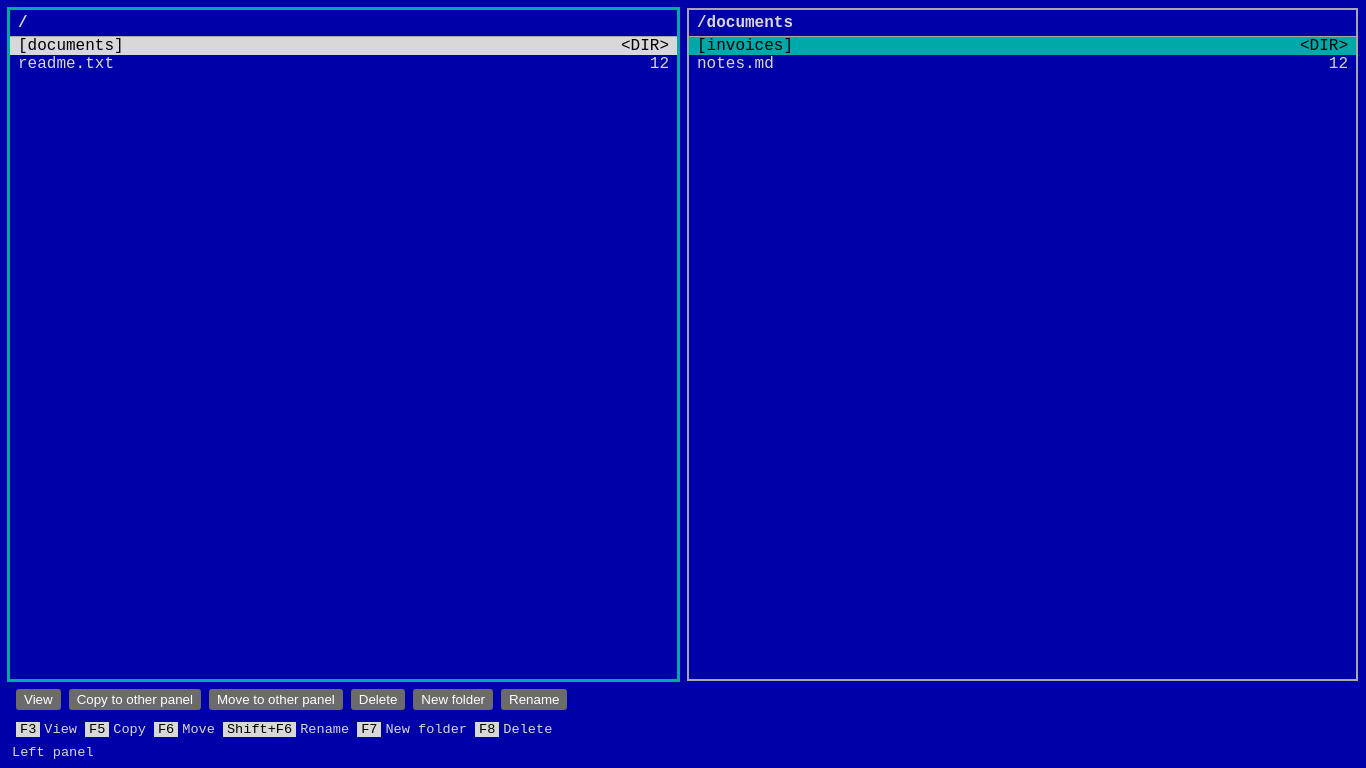
it: §REQ:TWO-PNL-NVGT-OOX-020 active panel selection › §REQ:TWO-PNL-NVGT-OOX-020 the active panel is announced as the target of subsequent commands
This screenshot has width=1366, height=768.
Check: the message named "active panel" shows "Left", box [12, 745, 94, 760]
Click the element named "right panel".
click(1022, 344)  # box [687, 8, 1358, 681]
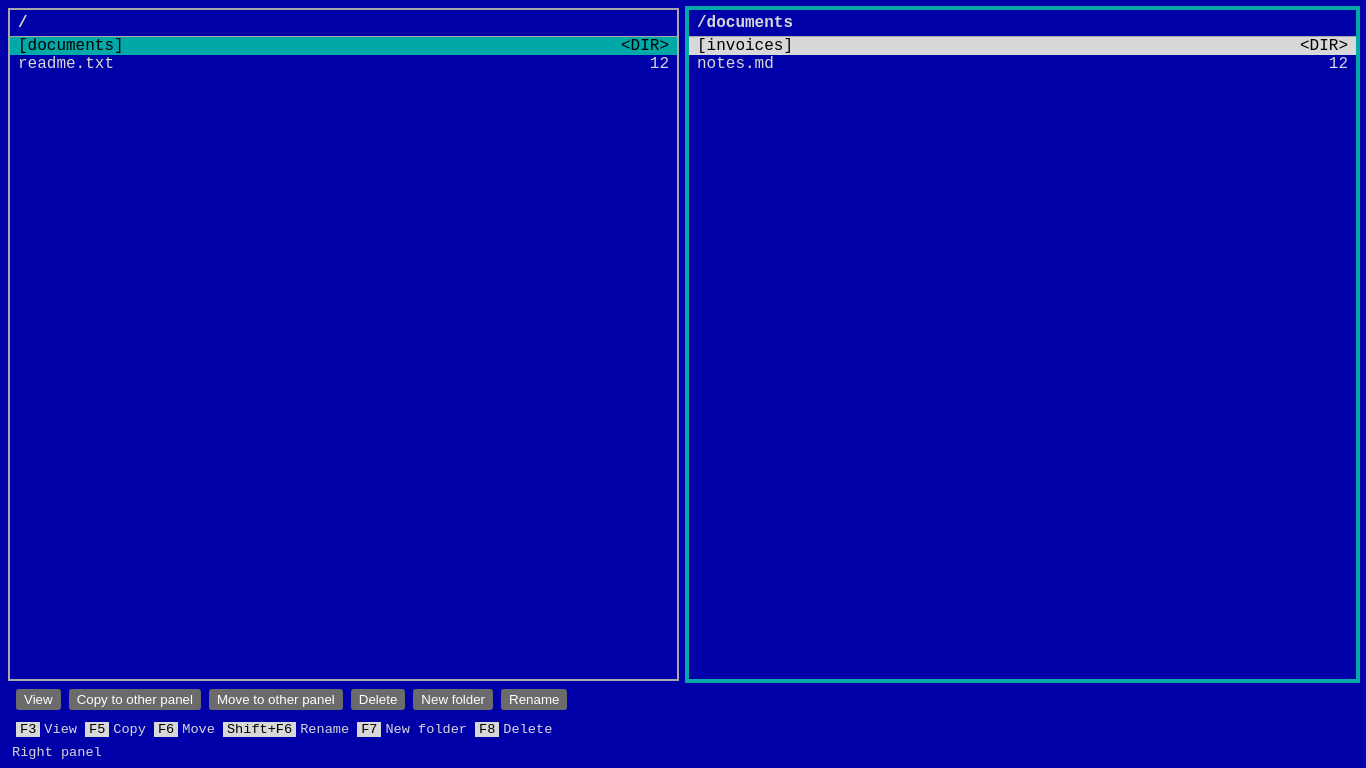
Check: the message named "active panel" shows "Right", box [12, 745, 102, 760]
